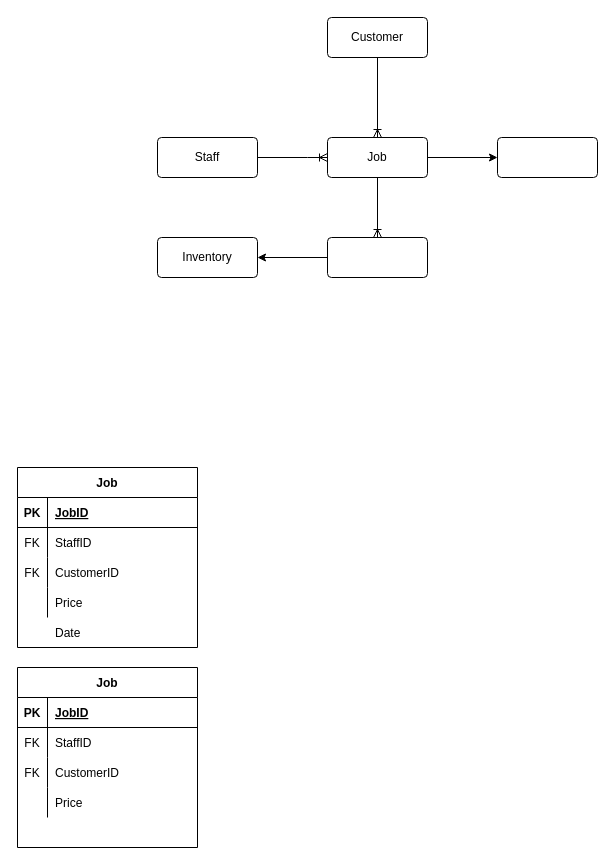
Some shapes in this 615 by 865 pixel diagram are drawn without their labels. Each missing label, with the box of its shape:
Job Inventory: (326, 236, 428, 278)
Payment: (496, 136, 598, 178)
